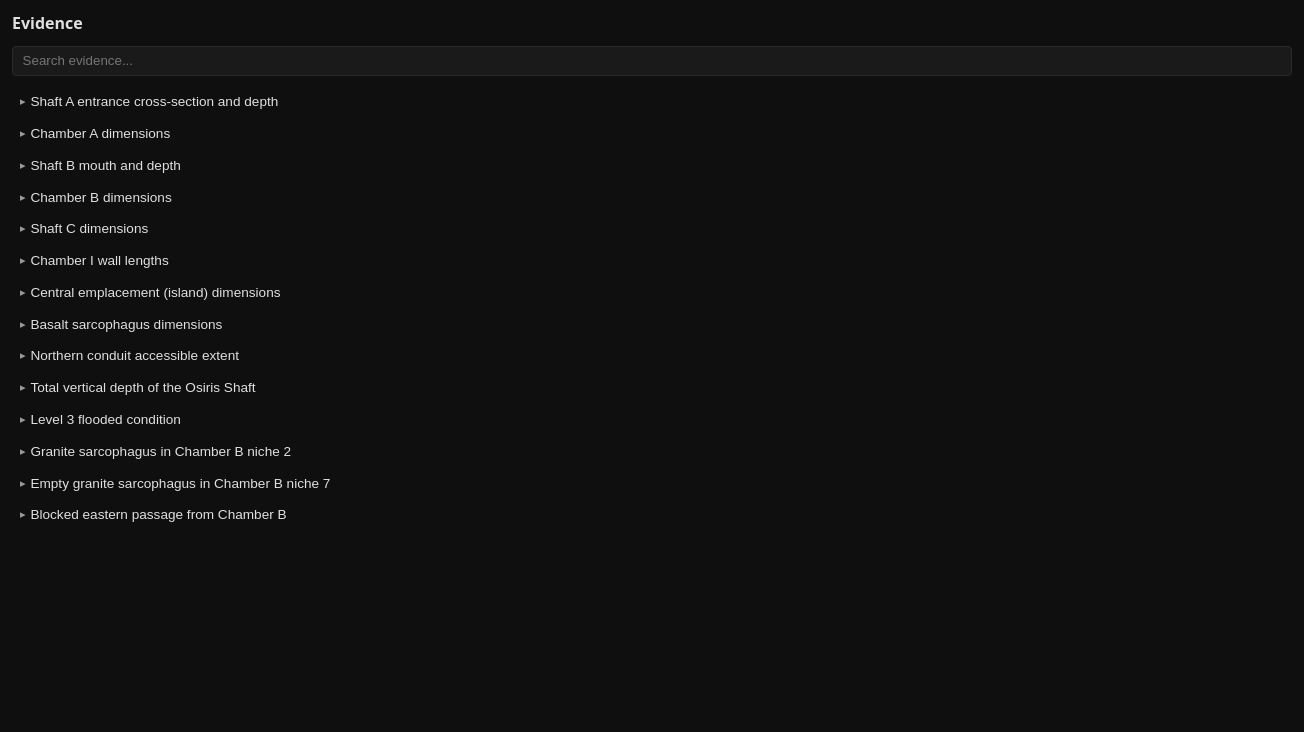
EvidencePanel › filters evidence by search query
In the search field with placeholder "Search evidence...": (652, 61) [12,46,1292,76], type "sarcophagus"
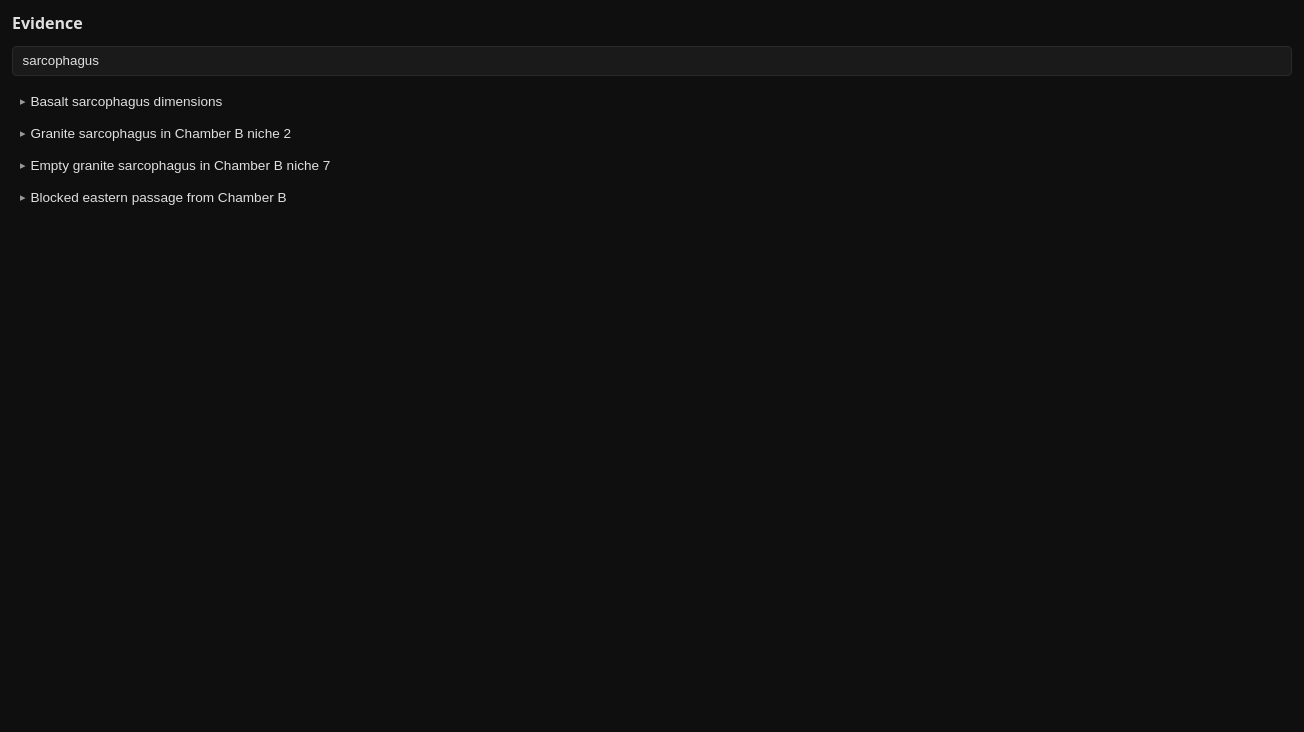
Expected: the button "▸ Basalt sarcophagus dimensions" is shown, [12,88,1292,116]
Now the button "Shaft A entrance cross-section and depth" is gone
